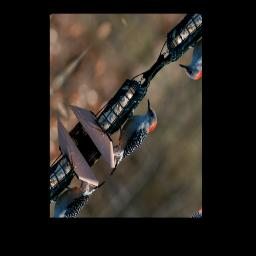Woodpecker: (93, 91, 164, 178)
